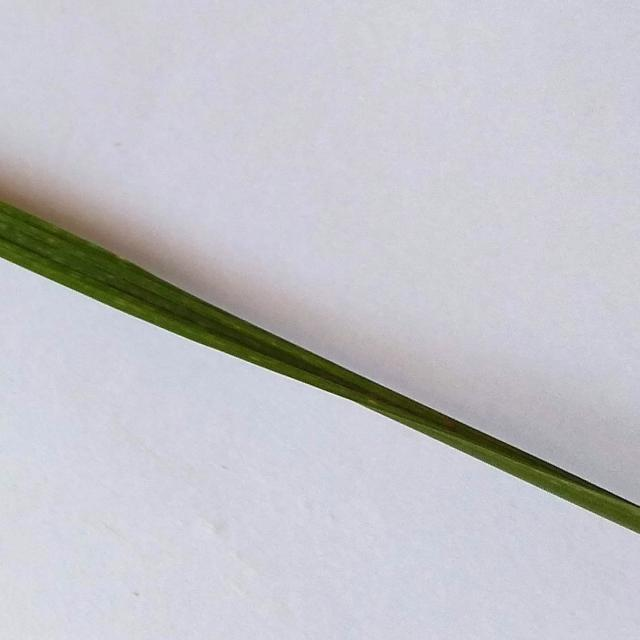Rice_Healthy: (0, 202, 640, 533)
